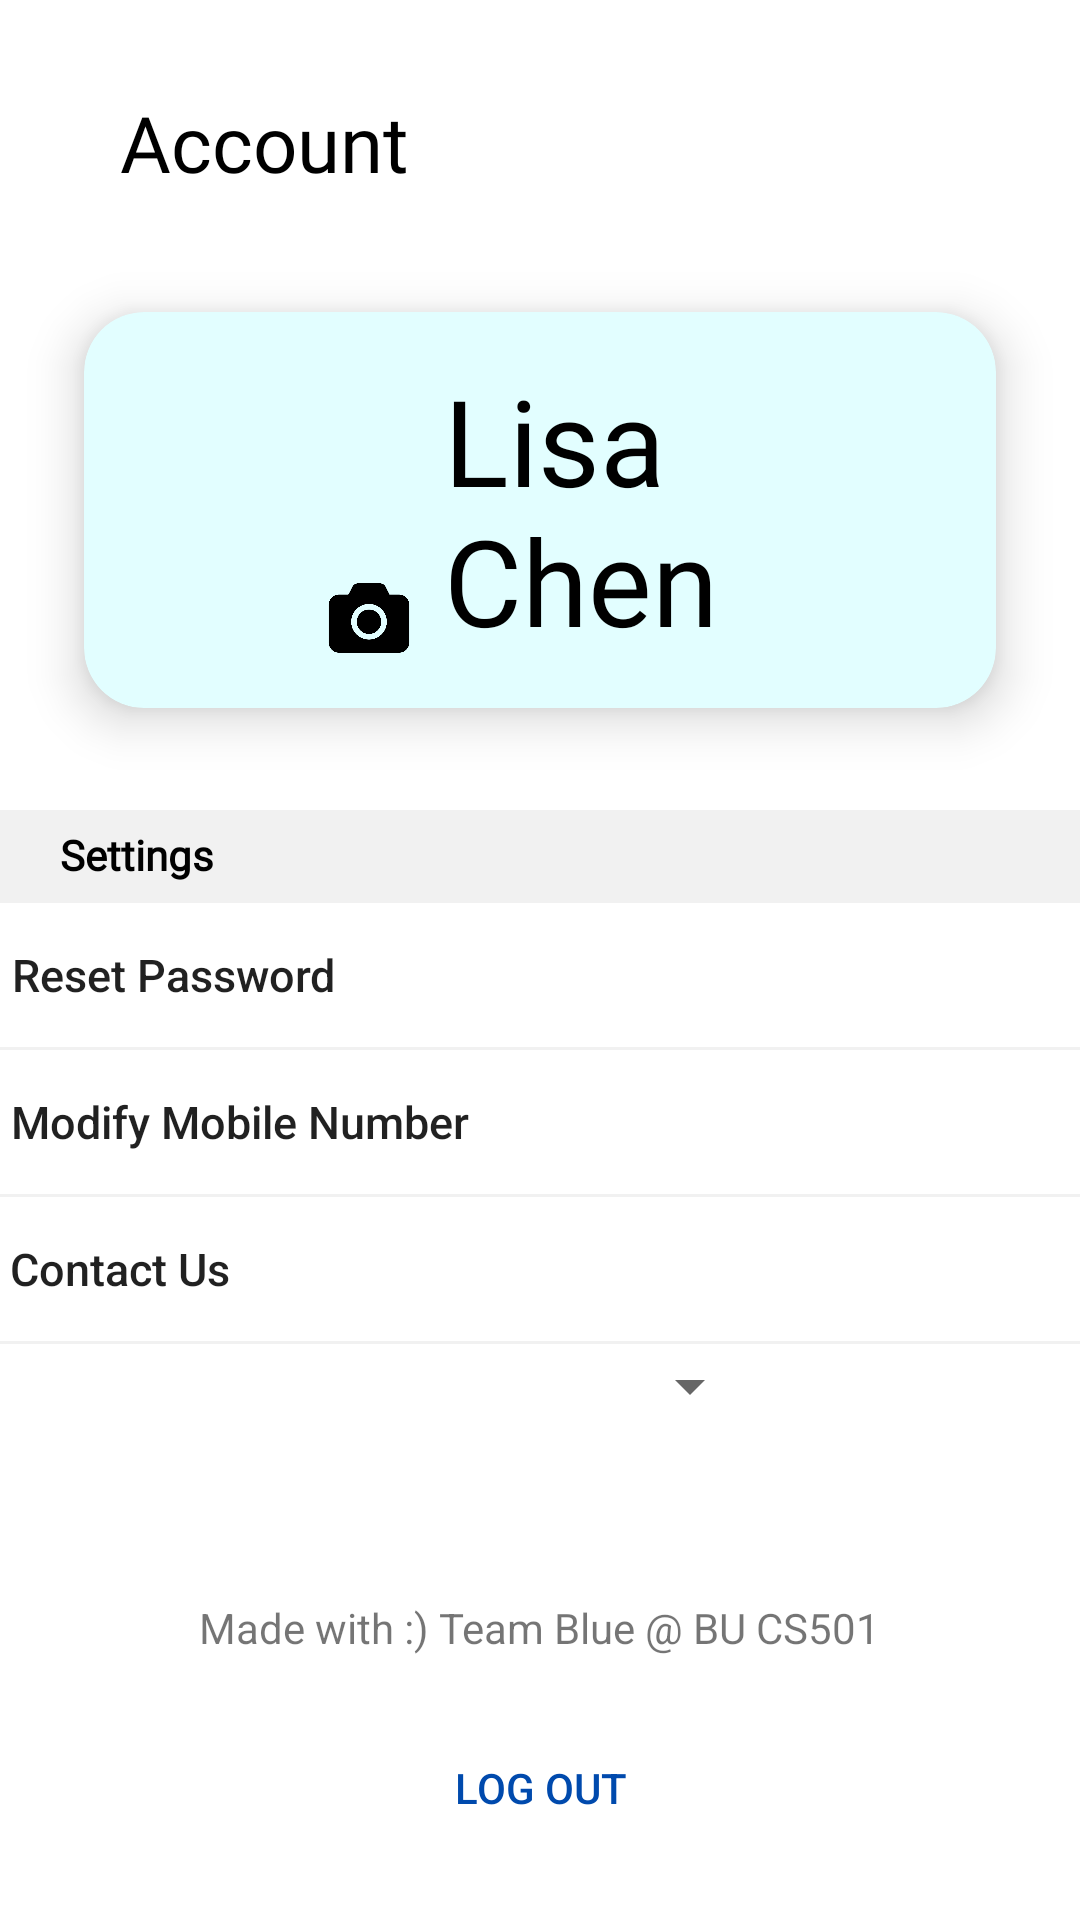

Point at icon controls on the screen. Image size 1080×1920, points as [x,y].
photo: [369,618]
